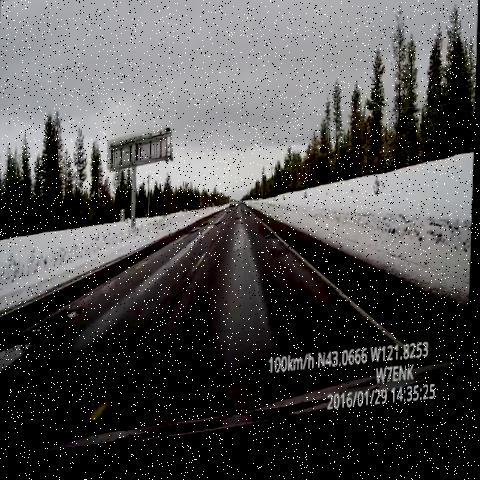pothole: (0, 334, 37, 396), (175, 219, 213, 254), (63, 302, 92, 328), (260, 230, 282, 254), (231, 245, 248, 266), (233, 224, 249, 242), (214, 218, 225, 236), (224, 213, 235, 223)
